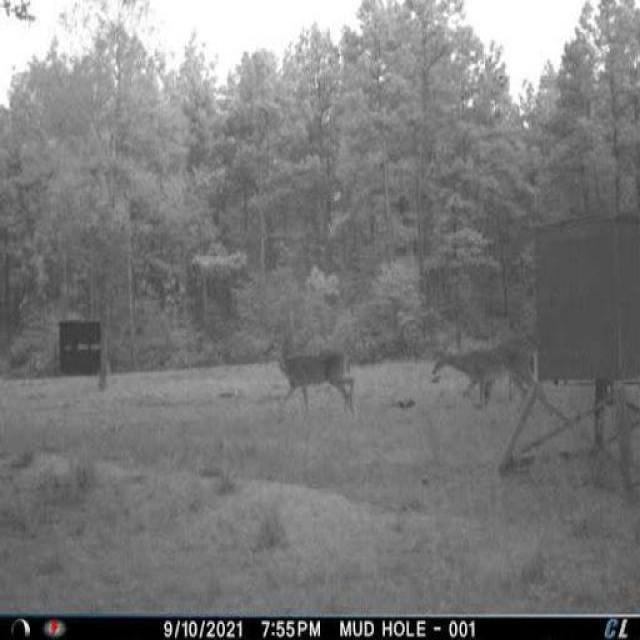deer: (428, 326, 548, 417), (265, 333, 361, 418)
